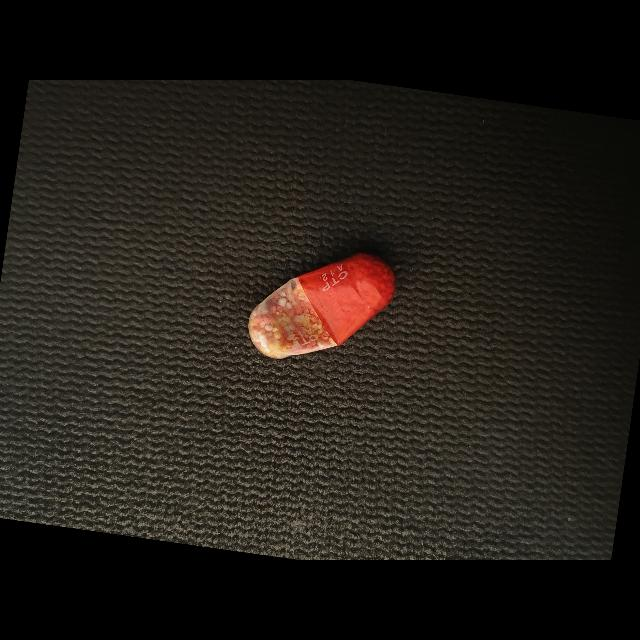Defective Capsule: (248, 253, 395, 359)
